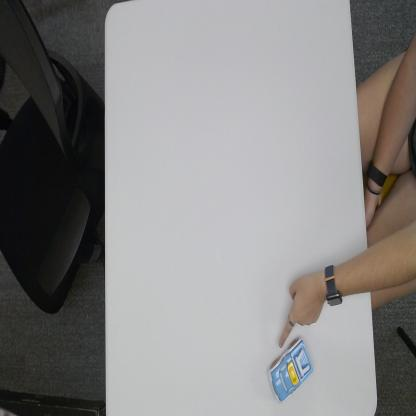Arm: (343, 250, 372, 297)
Car: (267, 338, 313, 403)
Hand: (277, 266, 324, 349)
